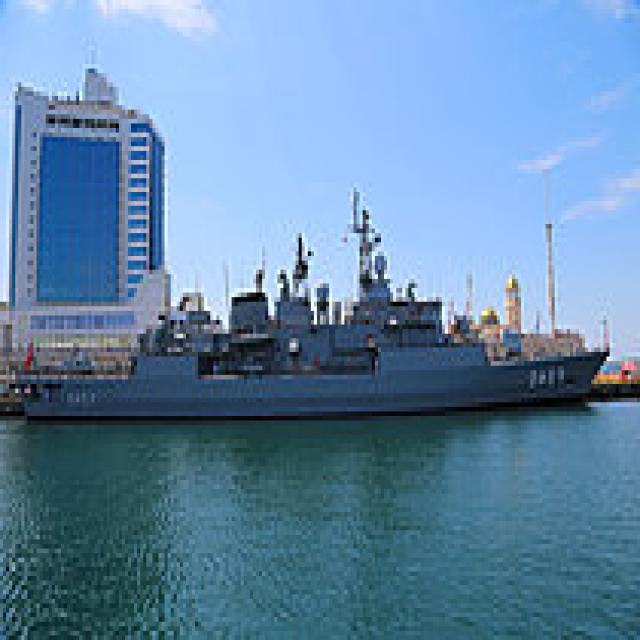Warship: (15, 183, 619, 425)
